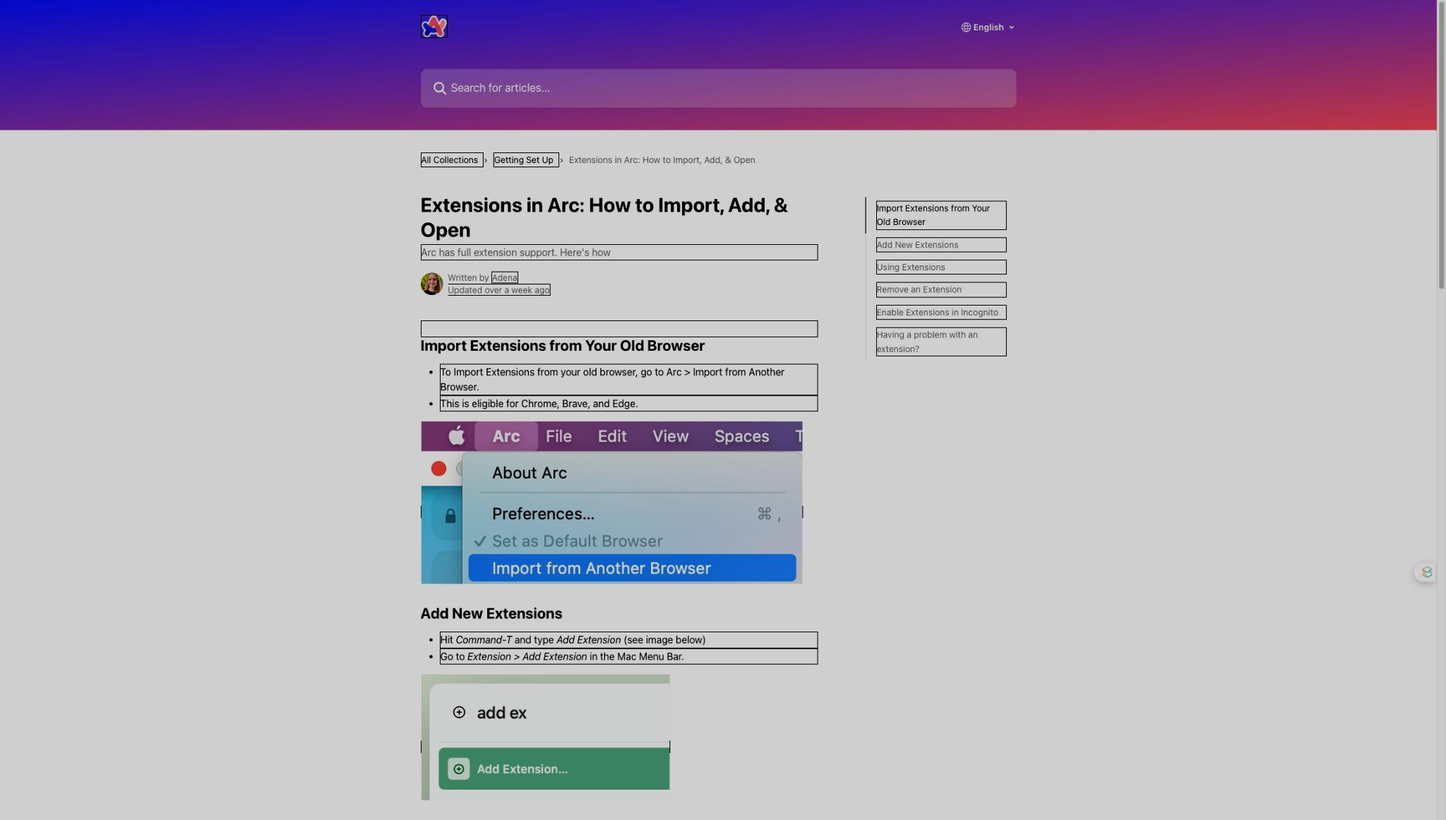webelement: (440, 359, 817, 389), (420, 268, 817, 291), (420, 241, 817, 256), (420, 316, 817, 331), (440, 389, 817, 404), (440, 624, 817, 639), (440, 640, 817, 655), (876, 199, 1006, 227), (876, 319, 1006, 347), (420, 811, 817, 820), (876, 298, 1006, 312), (876, 235, 1006, 248), (876, 256, 1006, 269), (876, 277, 1006, 290), (491, 151, 555, 164), (420, 151, 482, 164), (491, 268, 516, 278)
